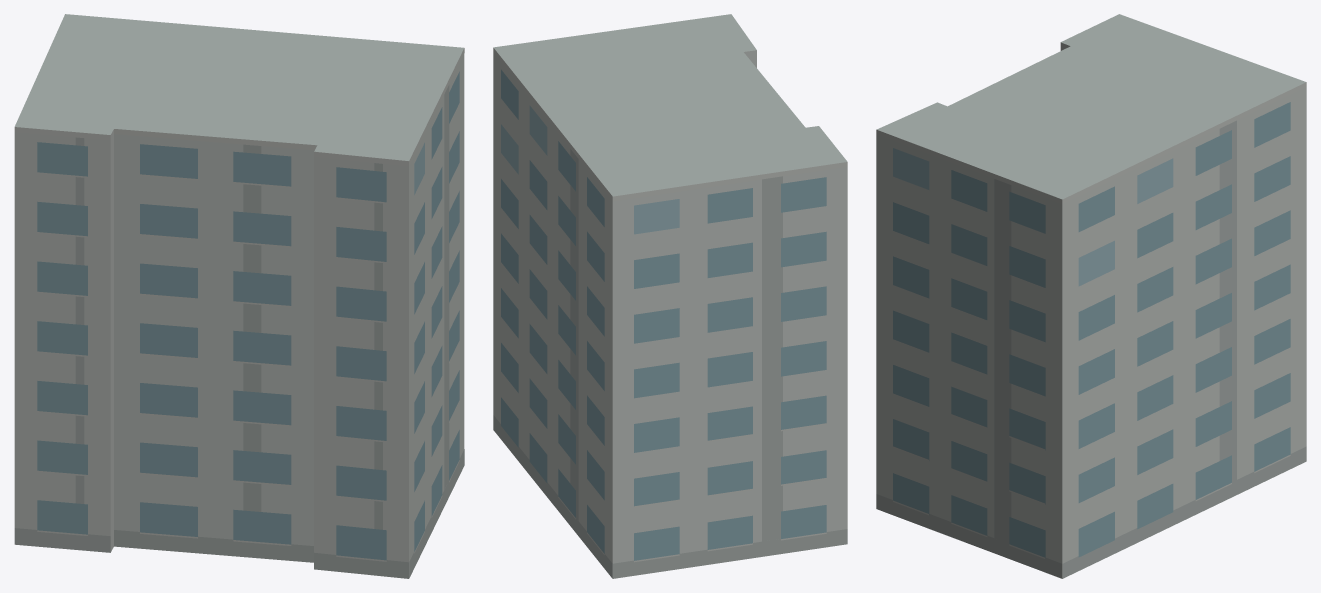
File: survey-upis-32846848.glb
The picture shows the model from 3 angles, left to right: view 1: azimuth 30°, elevation 25°; view 2: azimuth 150°, elevation 25°; view 3: azimuth 270°, elevation 25°; orthographic projection. The views are drawn at different scales.
Visible parts, largest first — view 1: survey-upis-32846848.tmp; view 2: survey-upis-32846848.tmp; view 3: survey-upis-32846848.tmp.
Part boxes in pixels (x1,y1,x2,y2): survey-upis-32846848.tmp: [14, 14, 464, 578]; survey-upis-32846848.tmp: [493, 14, 847, 578]; survey-upis-32846848.tmp: [876, 14, 1306, 578].
Size of the model in its own units: 20.09 by 19.15 by 19.68.
